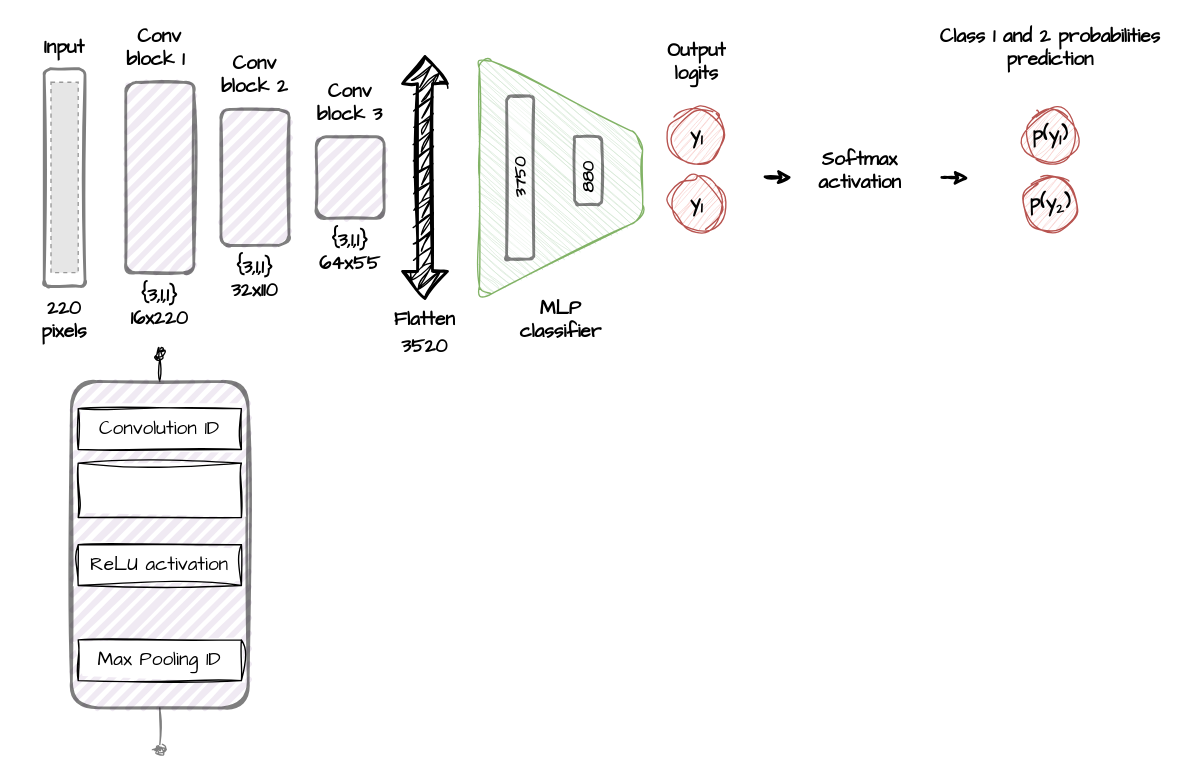
The diagram is 1189 pixels wide and 783 high, and some of its shapes have lost their labels. Grey dashed boxes stand in for pictures. Each missing label, with the centre of its shape:
"16 filters" goes at pixel 159 176.
"32 filters" goes at pixel 254 176.
"64 filters" goes at pixel 349 177.
"Batch Normalization 1D" goes at pixel 159 489.
